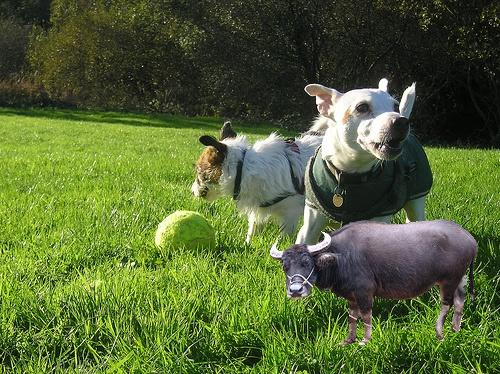tampered: (271, 220, 478, 345)
